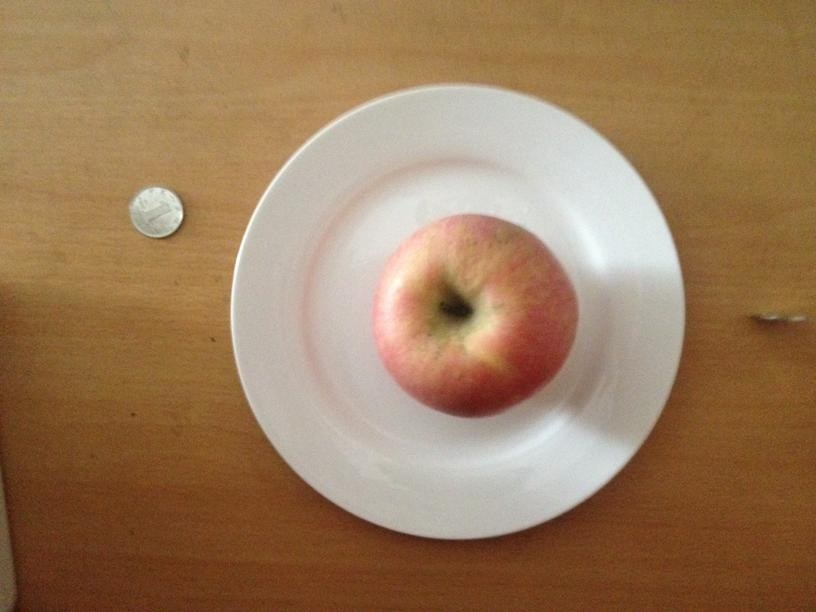apple: (374, 217, 579, 418)
coin: (128, 185, 185, 238)
